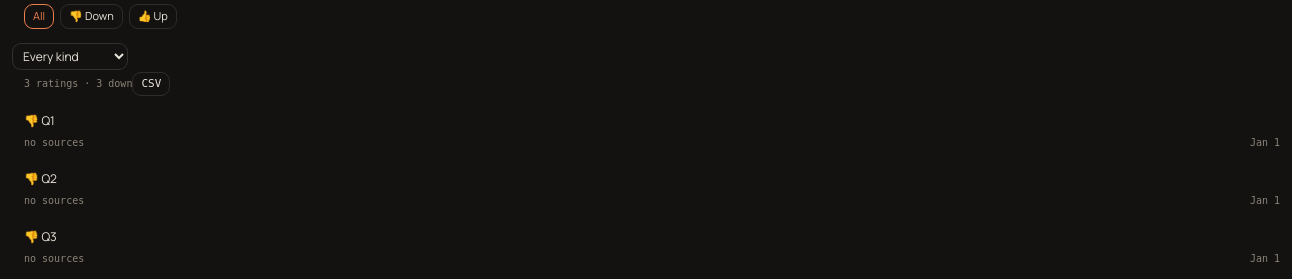
Test case: TracesPanel and FeedbackPanel filters › filters feedback by what was rated
This screenshot has width=1292, height=279.
Select "Single sources" in the dropdown with test id "feedback-kind-filter". click: (70, 56)
box: [12,42,128,70]
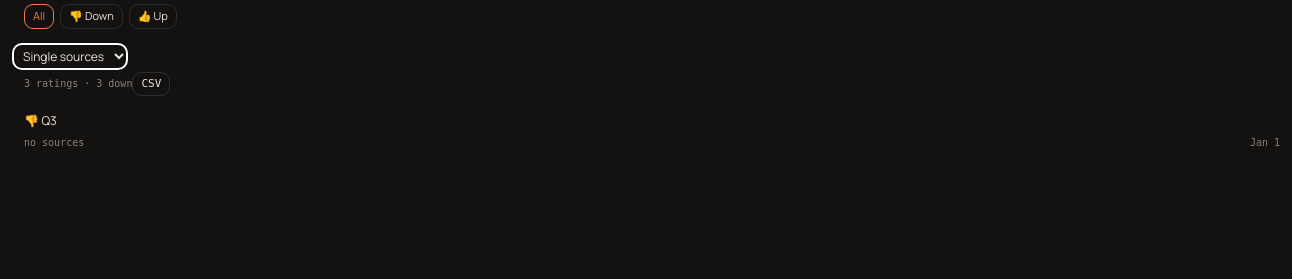
Check: the text "Q3" is shown, box [41,112,57,129]
Check: the text "Q1" is gone
Select "Summaries" in the dropdown with test id "feedback-kind-filter". click: (70, 56)
box: [12,42,128,70]
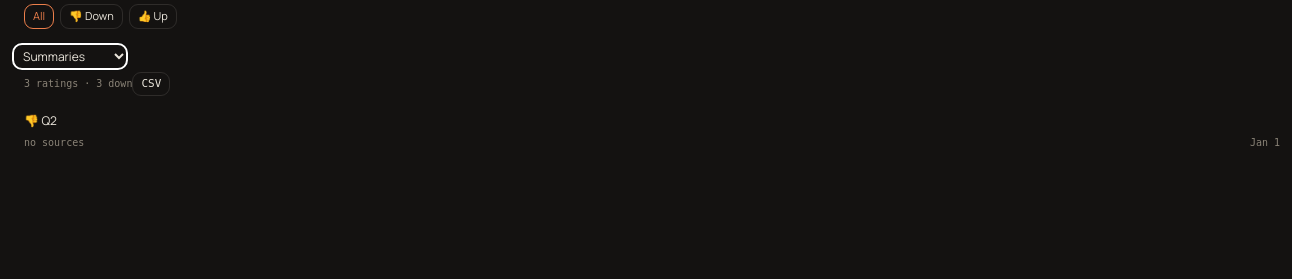
Check: the text "Q2" is shown, box [41,112,57,129]
Check: the text "Q3" is gone
